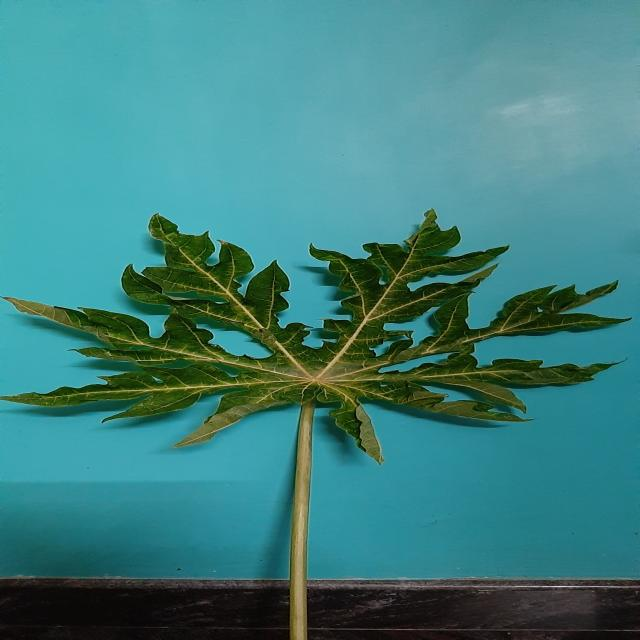wilt: (5, 211, 623, 461)
